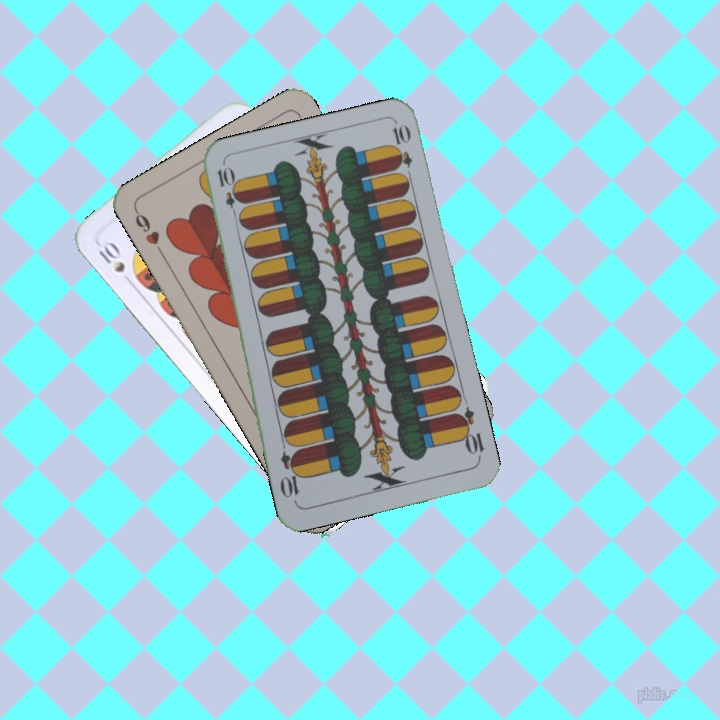E10: (452, 404, 487, 462), (213, 163, 242, 222)
H9: (130, 206, 167, 259)
S10: (94, 236, 137, 289)
